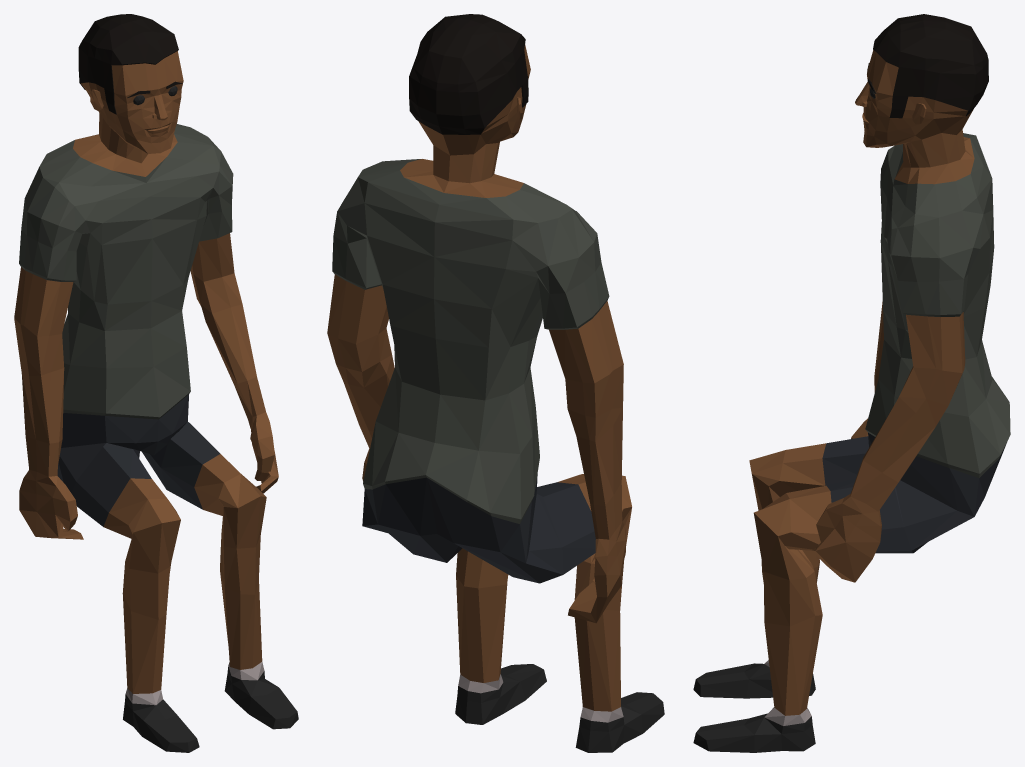
File: cg_man_2.glb
The picture shows the model from 3 angles, left to right: view 1: azimuth 30°, elevation 25°; view 2: azimuth 150°, elevation 25°; view 3: azimuth 270°, elevation 25°; orthographic projection. The views are drawn at different scales.
Bounding box in the file's own units: 1.47 × 4.01 × 1.66.
